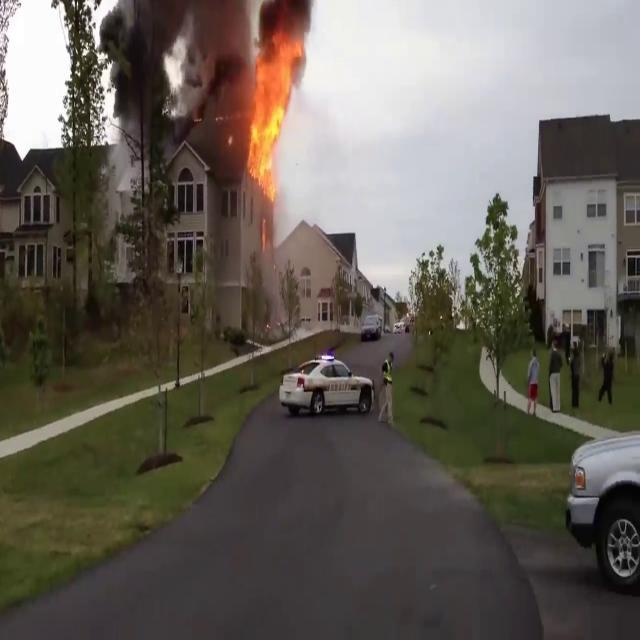Fire: (247, 36, 300, 208)
Smoke: (104, 0, 255, 146)
